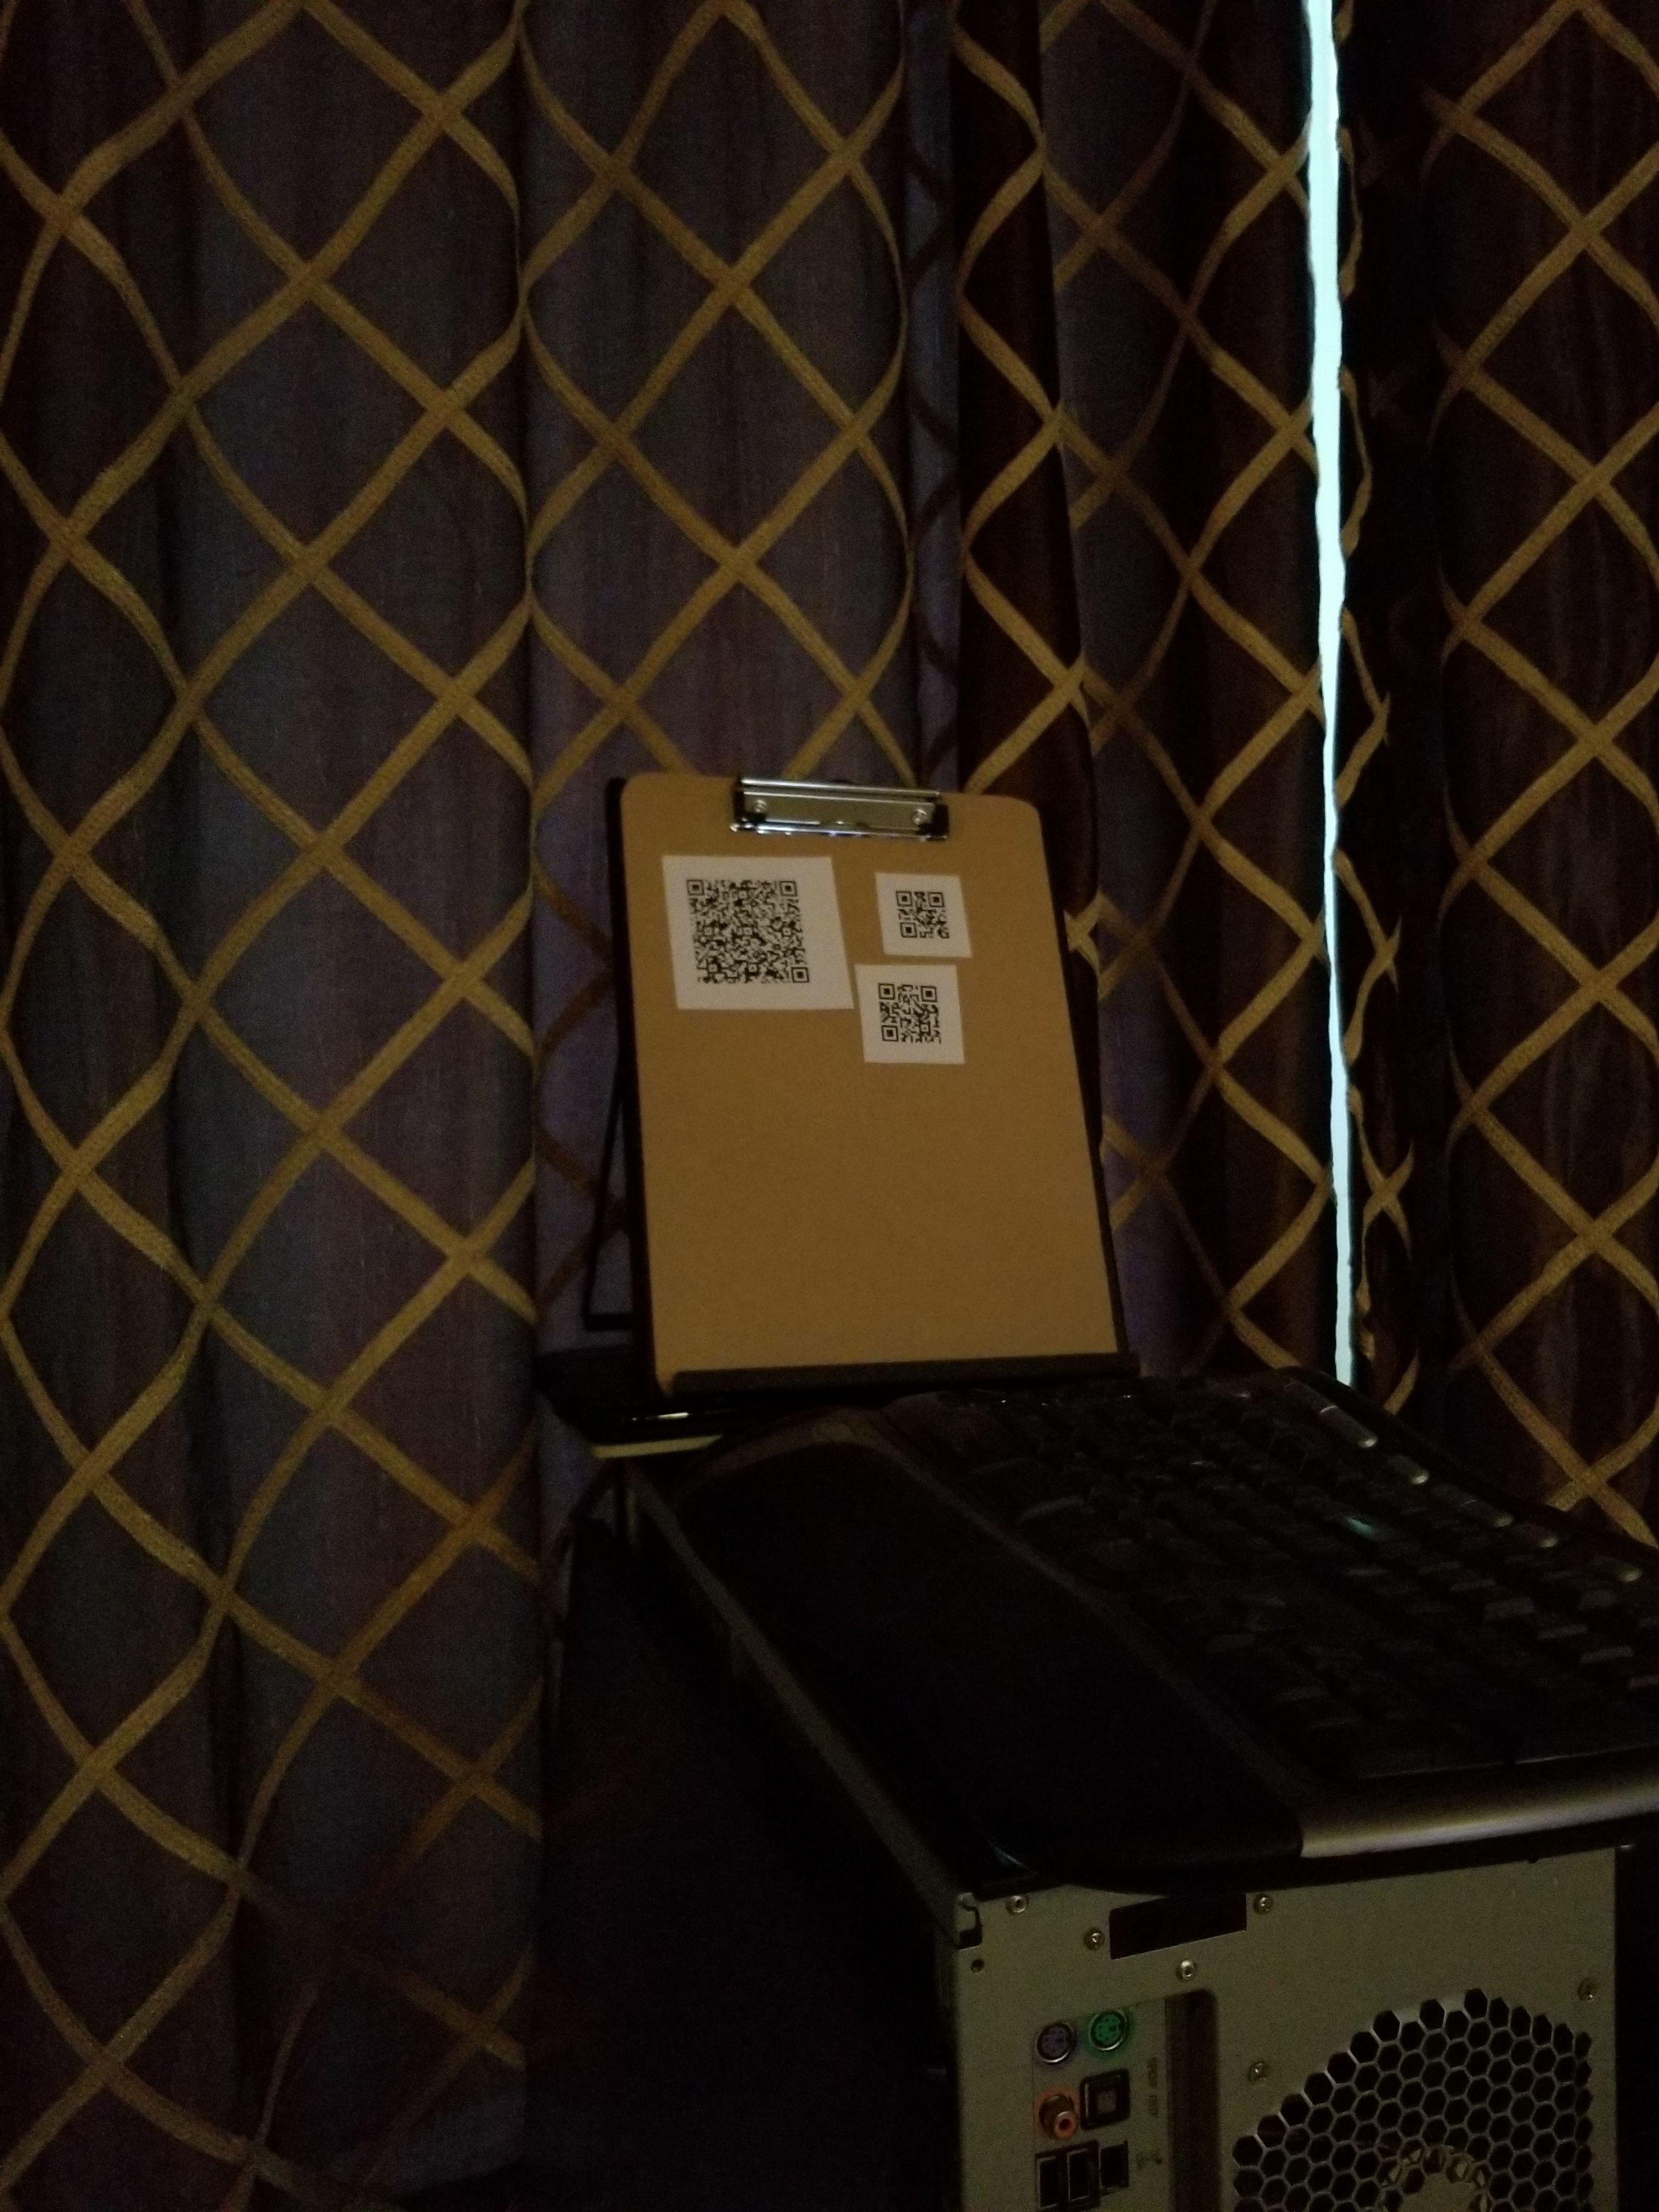QR_CODE: (674, 857, 824, 1017), (864, 970, 960, 1066), (890, 871, 965, 954)
